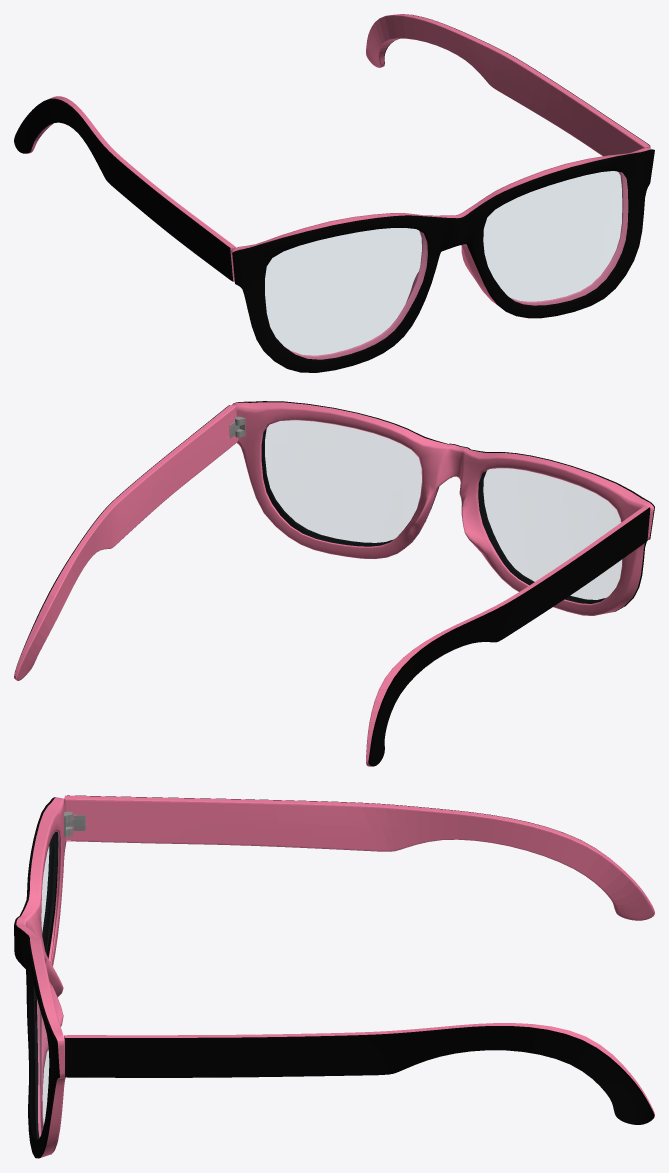
Rendered from Modelo_3.fbx.
3 renders of one model, top to bottom at view 1: azimuth 30°, elevation 25°; view 2: azimuth 150°, elevation 25°; view 3: azimuth 270°, elevation 25°, orthographic. The views are drawn at different scales.
Visible parts, largest first — view 1: Lentes, Marco_Color_1, Pata_Izquierda_Color_2, Pata_Derecha_Color_1, Marco_Color_2, Pata_Derecha_Color_2; view 2: Lentes, Marco_Color_2, Pata_Izquierda_Color_2, Pata_Derecha_Color_1, Marco_Color_1, Pata_Derecha_Color_2; view 3: Pata_Derecha_Color_2, Pata_Izquierda_Color_1, Marco_Color_2, Marco_Color_1, Lentes, Pata_Izquierda_Color_2.
Boxes of the visible parts, <box> form: Lentes: <box>265,171,627,358</box>; Marco_Color_1: <box>232,149,654,372</box>; Pata_Izquierda_Color_2: <box>366,14,649,156</box>; Pata_Derecha_Color_1: <box>14,98,233,281</box>; Marco_Color_2: <box>231,147,652,359</box>; Pata_Derecha_Color_2: <box>28,96,235,281</box>; Lentes: <box>263,421,621,603</box>; Marco_Color_2: <box>232,402,653,615</box>; Pata_Izquierda_Color_2: <box>14,405,238,680</box>; Pata_Derecha_Color_1: <box>368,507,650,766</box>; Marco_Color_1: <box>229,401,654,611</box>; Pata_Derecha_Color_2: <box>366,506,649,766</box>; Pata_Derecha_Color_2: <box>64,795,654,920</box>; Pata_Izquierda_Color_1: <box>65,1026,654,1124</box>; Marco_Color_2: <box>16,797,66,1157</box>; Marco_Color_1: <box>14,797,85,1158</box>; Lentes: <box>34,832,58,1138</box>; Pata_Izquierda_Color_2: <box>64,1023,654,1118</box>.
Bounding box in the file's own units: 18.01 × 5.84 × 19.98.
